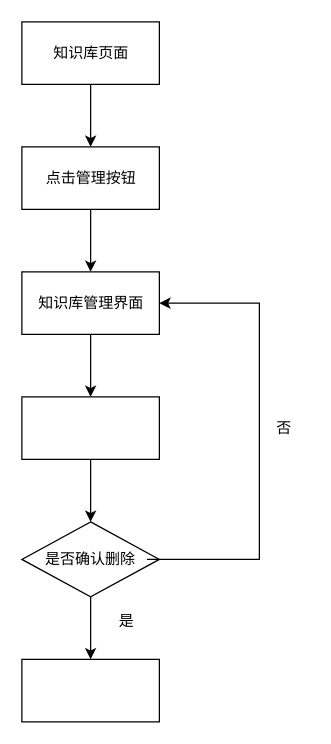
This 331x744 diagram has some shape labels left out. Here are the shapes that lost their labels. From the top down, the centre of each, then its label:
At (90,427): "点击删除按钮".
At (90,690): "删除成功".
